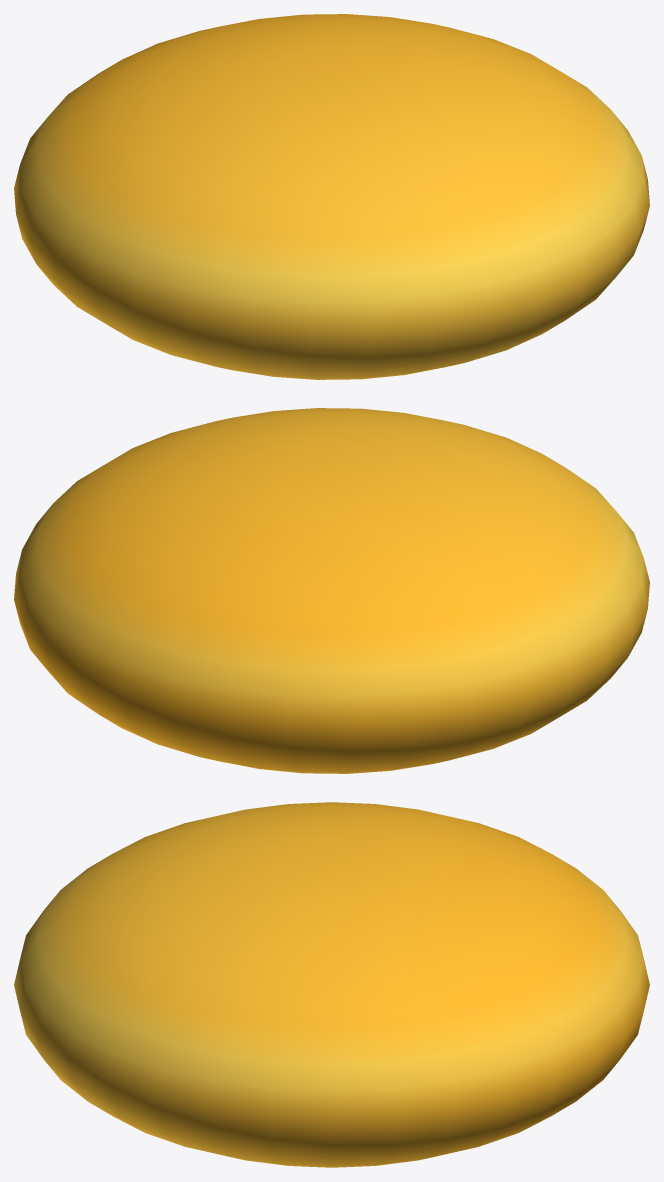
Rendered from Bonibon_03.fbx.
The picture shows the model from 3 angles, top to bottom: view 1: azimuth 30°, elevation 25°; view 2: azimuth 150°, elevation 25°; view 3: azimuth 270°, elevation 25°; orthographic projection.
Parts seen in each view (by area): view 1: Bonibon_03; view 2: Bonibon_03; view 3: Bonibon_03.
Part boxes in pixels (x1=…): Bonibon_03: x1=14, y1=14, x2=649, y2=379; Bonibon_03: x1=14, y1=408, x2=649, y2=773; Bonibon_03: x1=14, y1=802, x2=649, y2=1167.
Size of the model in its own units: 113 by 47.58 by 113.
